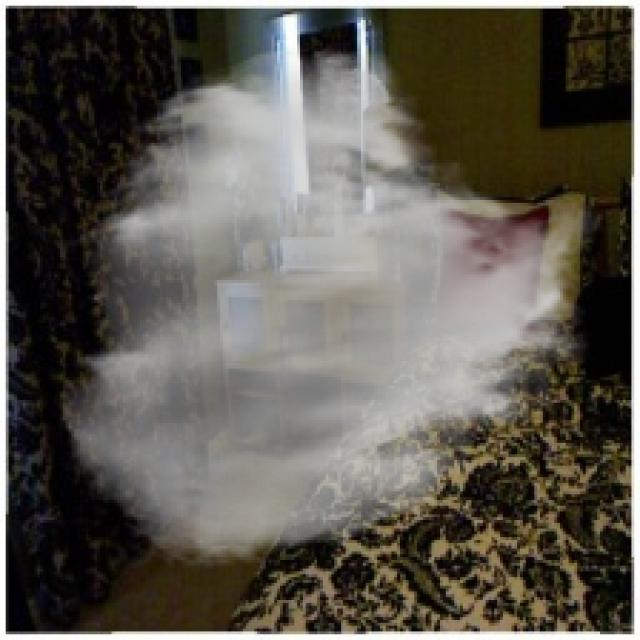smoke: (57, 43, 603, 571)
